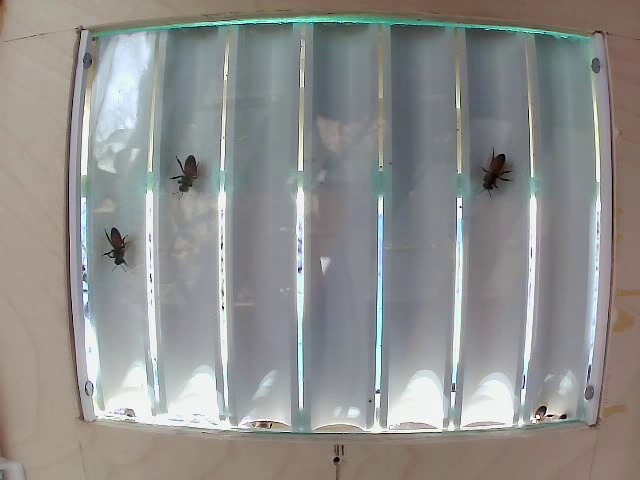bee: (472, 136, 513, 202), (94, 221, 134, 274), (168, 149, 198, 204)
